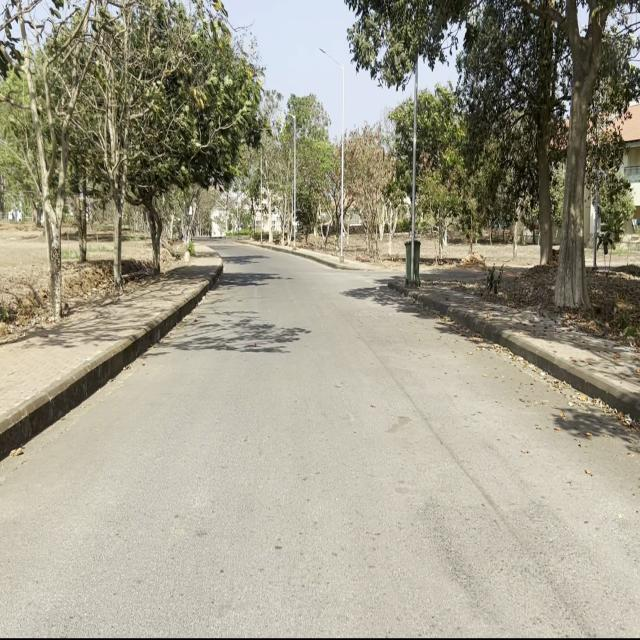Road: (2, 243, 638, 633)
